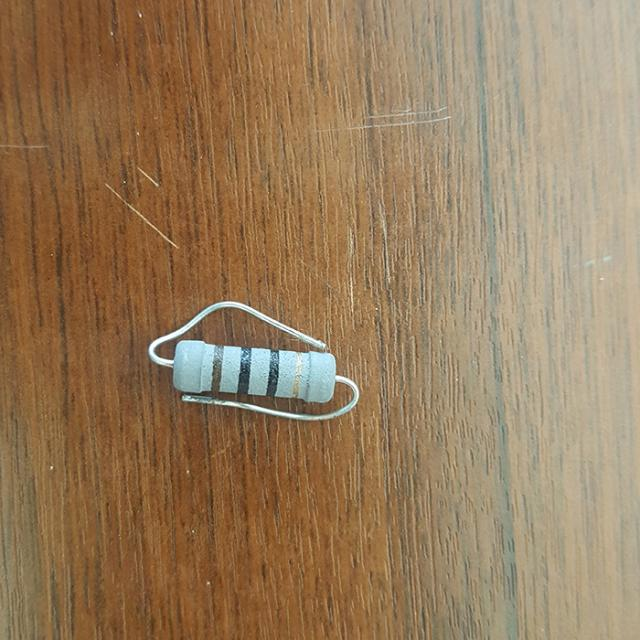black: (238, 349, 251, 392), (267, 351, 279, 395)
brown: (212, 347, 222, 391)
gold: (292, 353, 300, 395)
resistor: (161, 321, 354, 424)
